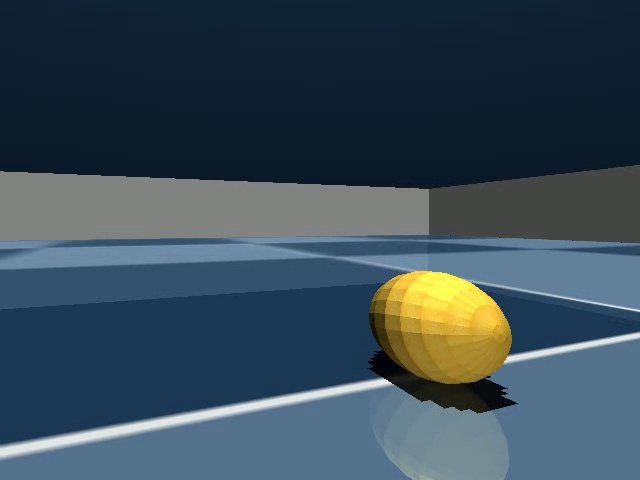lemon: (363, 264, 517, 397)
